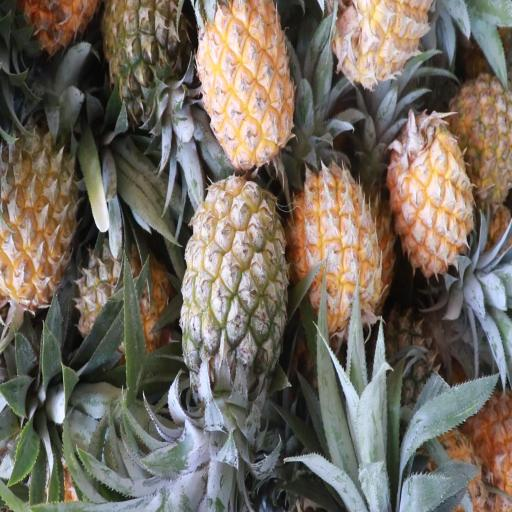------------------------------: (182, 175, 287, 395), (79, 233, 174, 359)
Pineapple - v8 v1: (0, 119, 84, 300), (200, 0, 297, 154), (296, 164, 384, 330), (392, 106, 477, 276)
